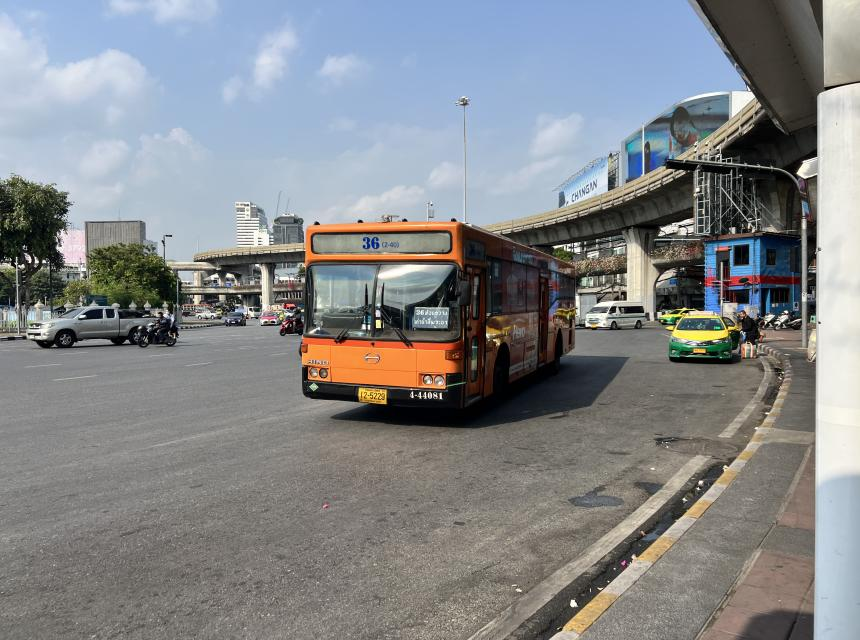BMTA-bus: (297, 220, 576, 419)
Bus Line Number: (358, 234, 401, 252)
Bus Side Number: (407, 388, 446, 402)
Destination Sign: (413, 307, 450, 330)
